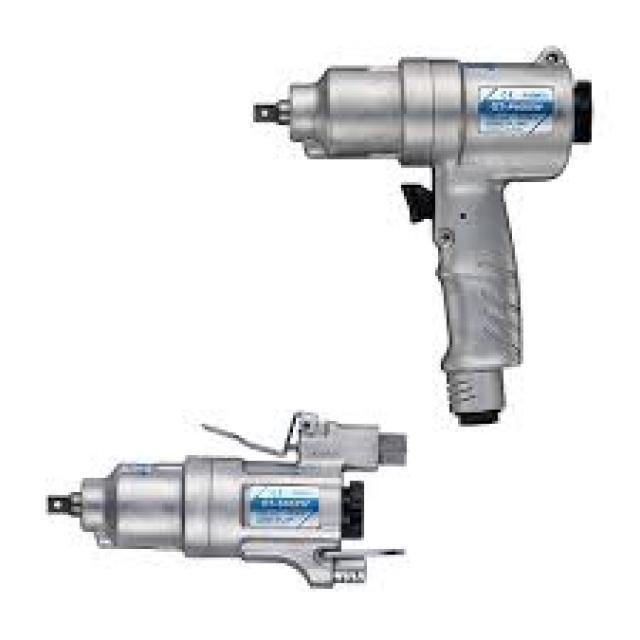drill: (226, 48, 602, 436), (31, 406, 400, 584)
